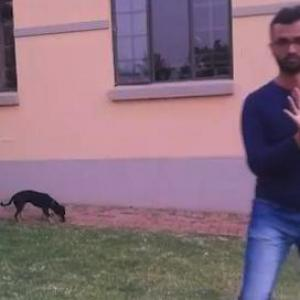follow_hand: (278, 79, 299, 148)
